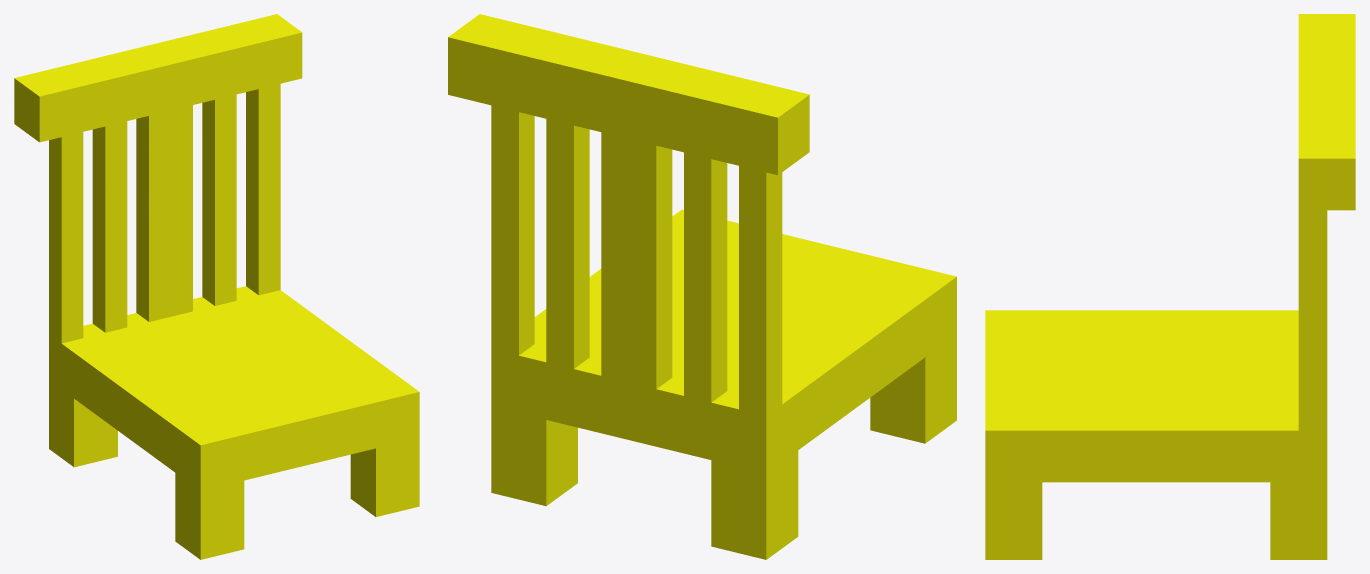
File: voxel-rangers-chair.glb
3 renders of one model, left to right at view 1: azimuth 30°, elevation 25°; view 2: azimuth 150°, elevation 25°; view 3: azimuth 270°, elevation 25°, orthographic. The views are drawn at different scales.
Visible parts, largest first — view 1: ObjObject.003; view 2: ObjObject.003; view 3: ObjObject.003.
Part boxes in pixels (bbox=[...]): ObjObject.003: bbox=[14, 14, 419, 559]; ObjObject.003: bbox=[448, 14, 956, 559]; ObjObject.003: bbox=[985, 14, 1355, 559].
Size of the model in its own units: 1.2 by 1.6 by 1.3.
